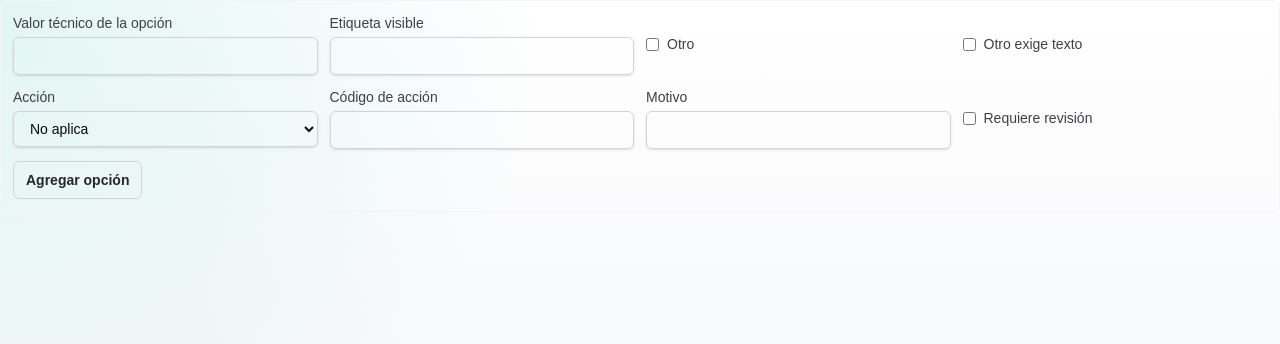
Test: OptionAddForm › conserva los valores y muestra error cuando el servidor rechaza la opción
Type "HOMBRE" into the field labelled "Valor técnico de la opción". click: (165, 56)
box: left=13, top=37, right=318, bottom=75
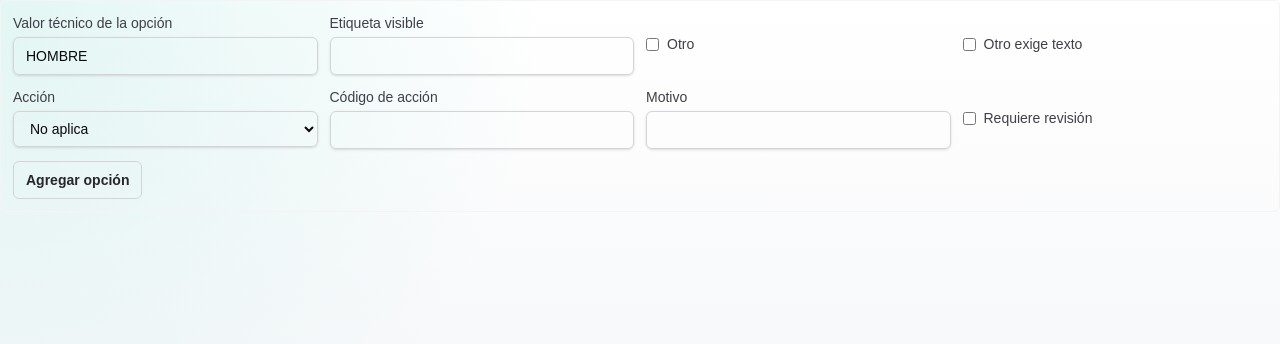
Type "Hombre" into the field labelled "Etiqueta visible". click: (482, 56)
box: left=330, top=37, right=634, bottom=75
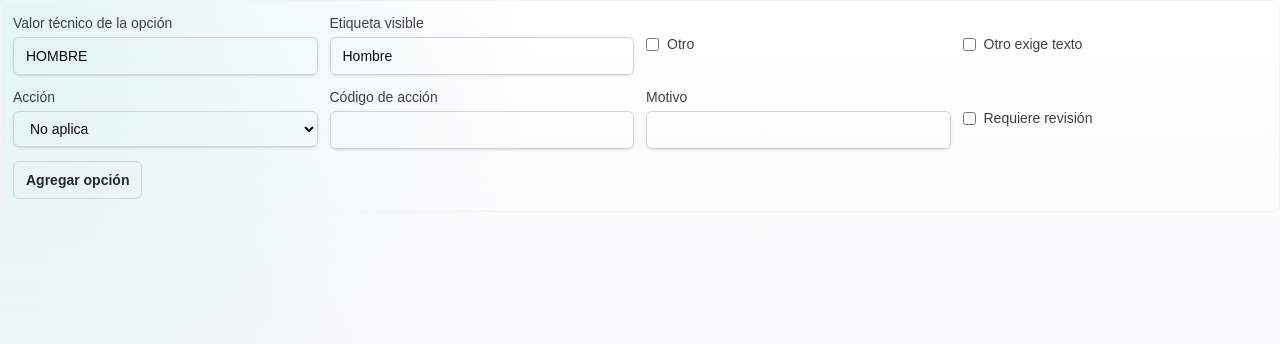
Click the button "Agregar opción". click: (78, 180)
box: left=13, top=161, right=142, bottom=199
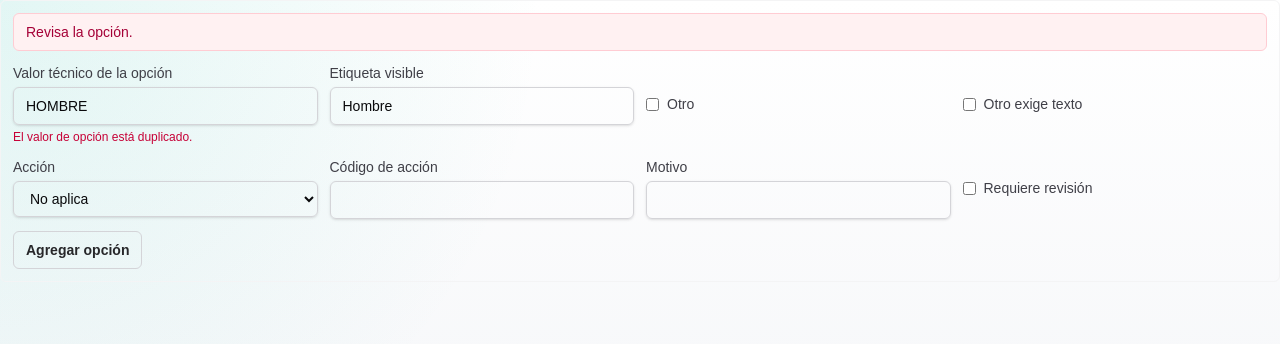
Expected: the message reads "Revisa la opción.", left=26, top=24, right=133, bottom=40
Expected: the text "El valor de opción está duplicado." is shown, left=13, top=130, right=192, bottom=144
